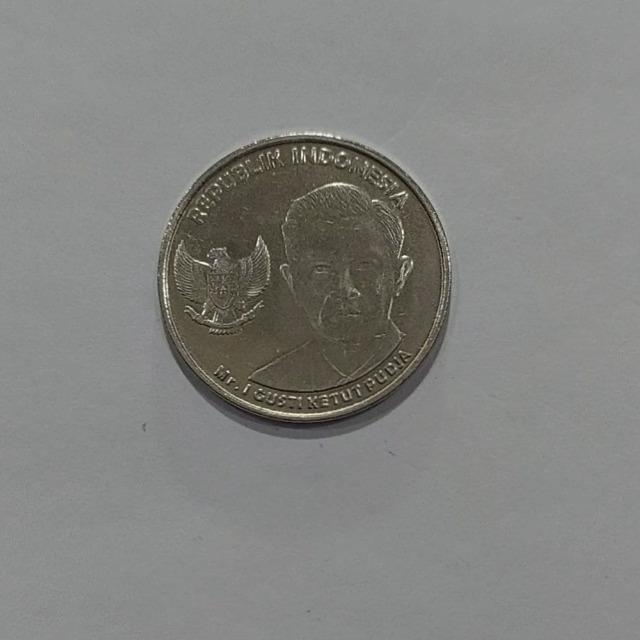Rp100: (156, 131, 453, 425)
